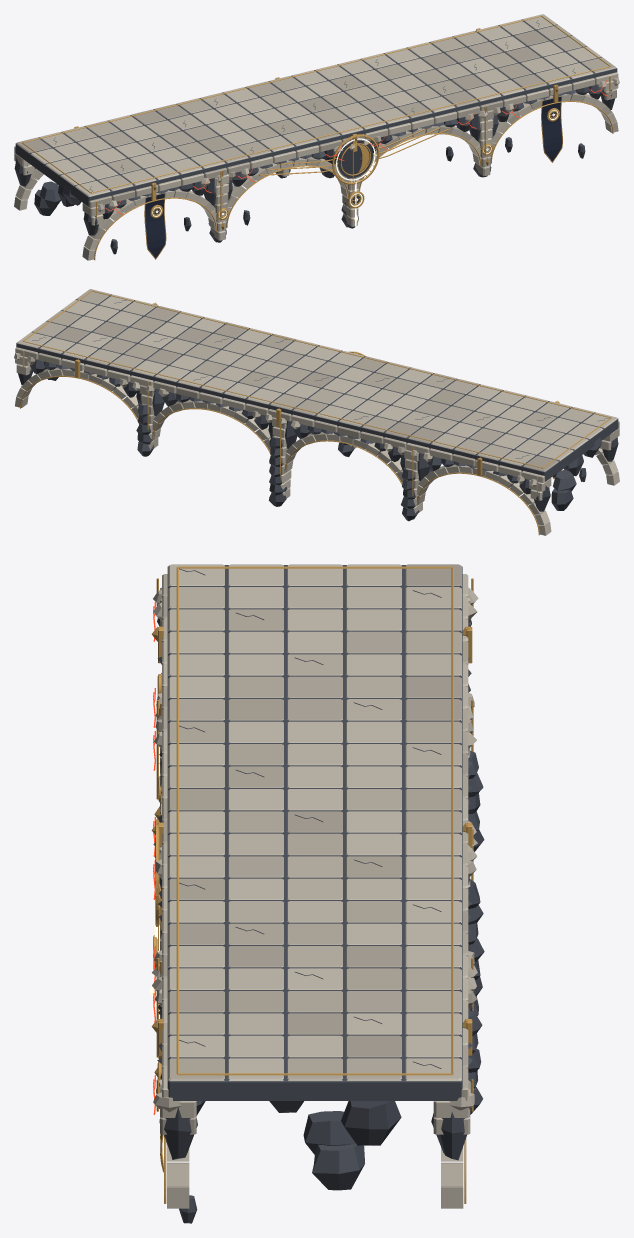
File: Eclipse_Main_v001.fbx
The picture shows the model from 3 angles, top to bottom: view 1: azimuth 30°, elevation 25°; view 2: azimuth 150°, elevation 25°; view 3: azimuth 270°, elevation 25°; orthographic projection. The views are drawn at different scales.
Parts seen in each view (by area): view 1: Eclipse_Main; view 2: Eclipse_Main; view 3: Eclipse_Main.
Boxes of the visible parts, x1=… form: Eclipse_Main: x1=14, y1=14, x2=619, y2=260; Eclipse_Main: x1=14, y1=289, x2=619, y2=535; Eclipse_Main: x1=149, y1=564, x2=484, y2=1223.
Size of the model in its own units: 24.22 by 4.36 by 6.59.
